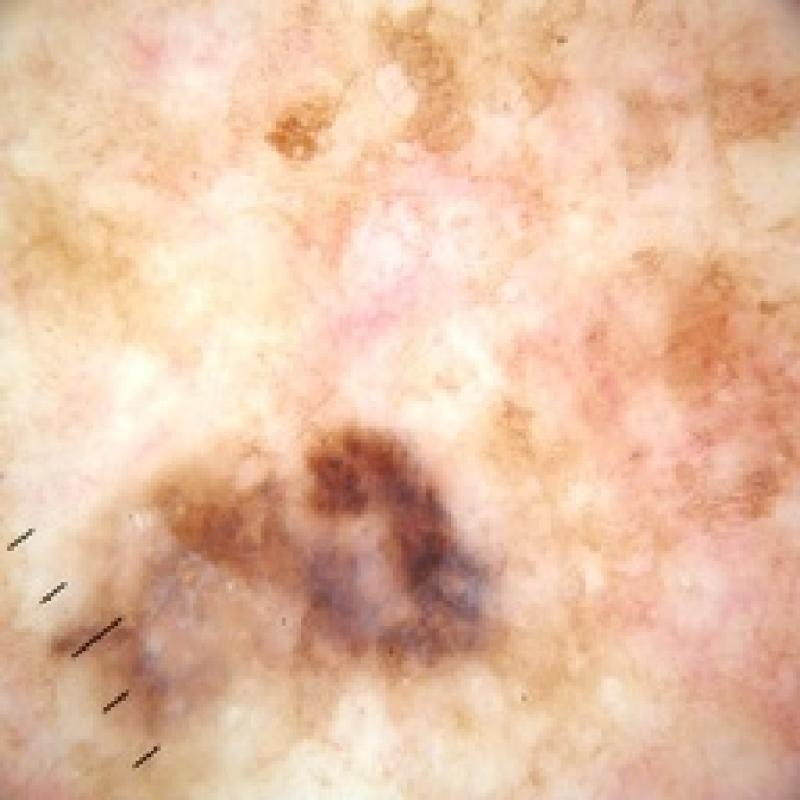malignant: (51, 398, 546, 786)
